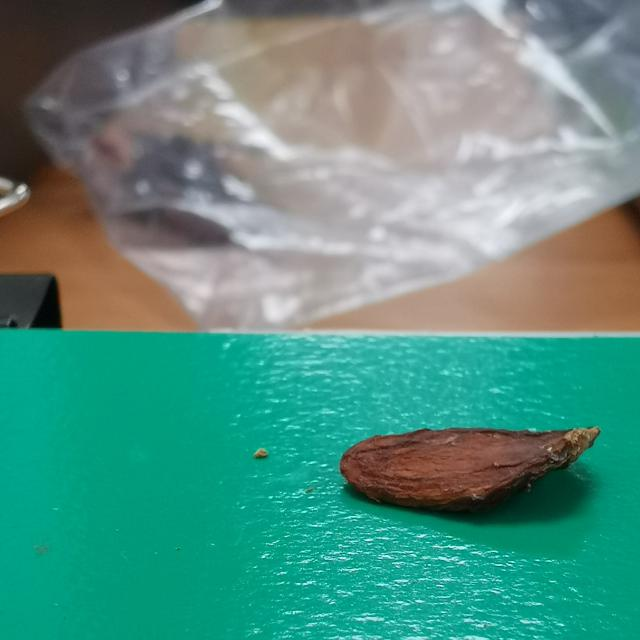Flat_cocoabeans: (261, 397, 640, 548)
